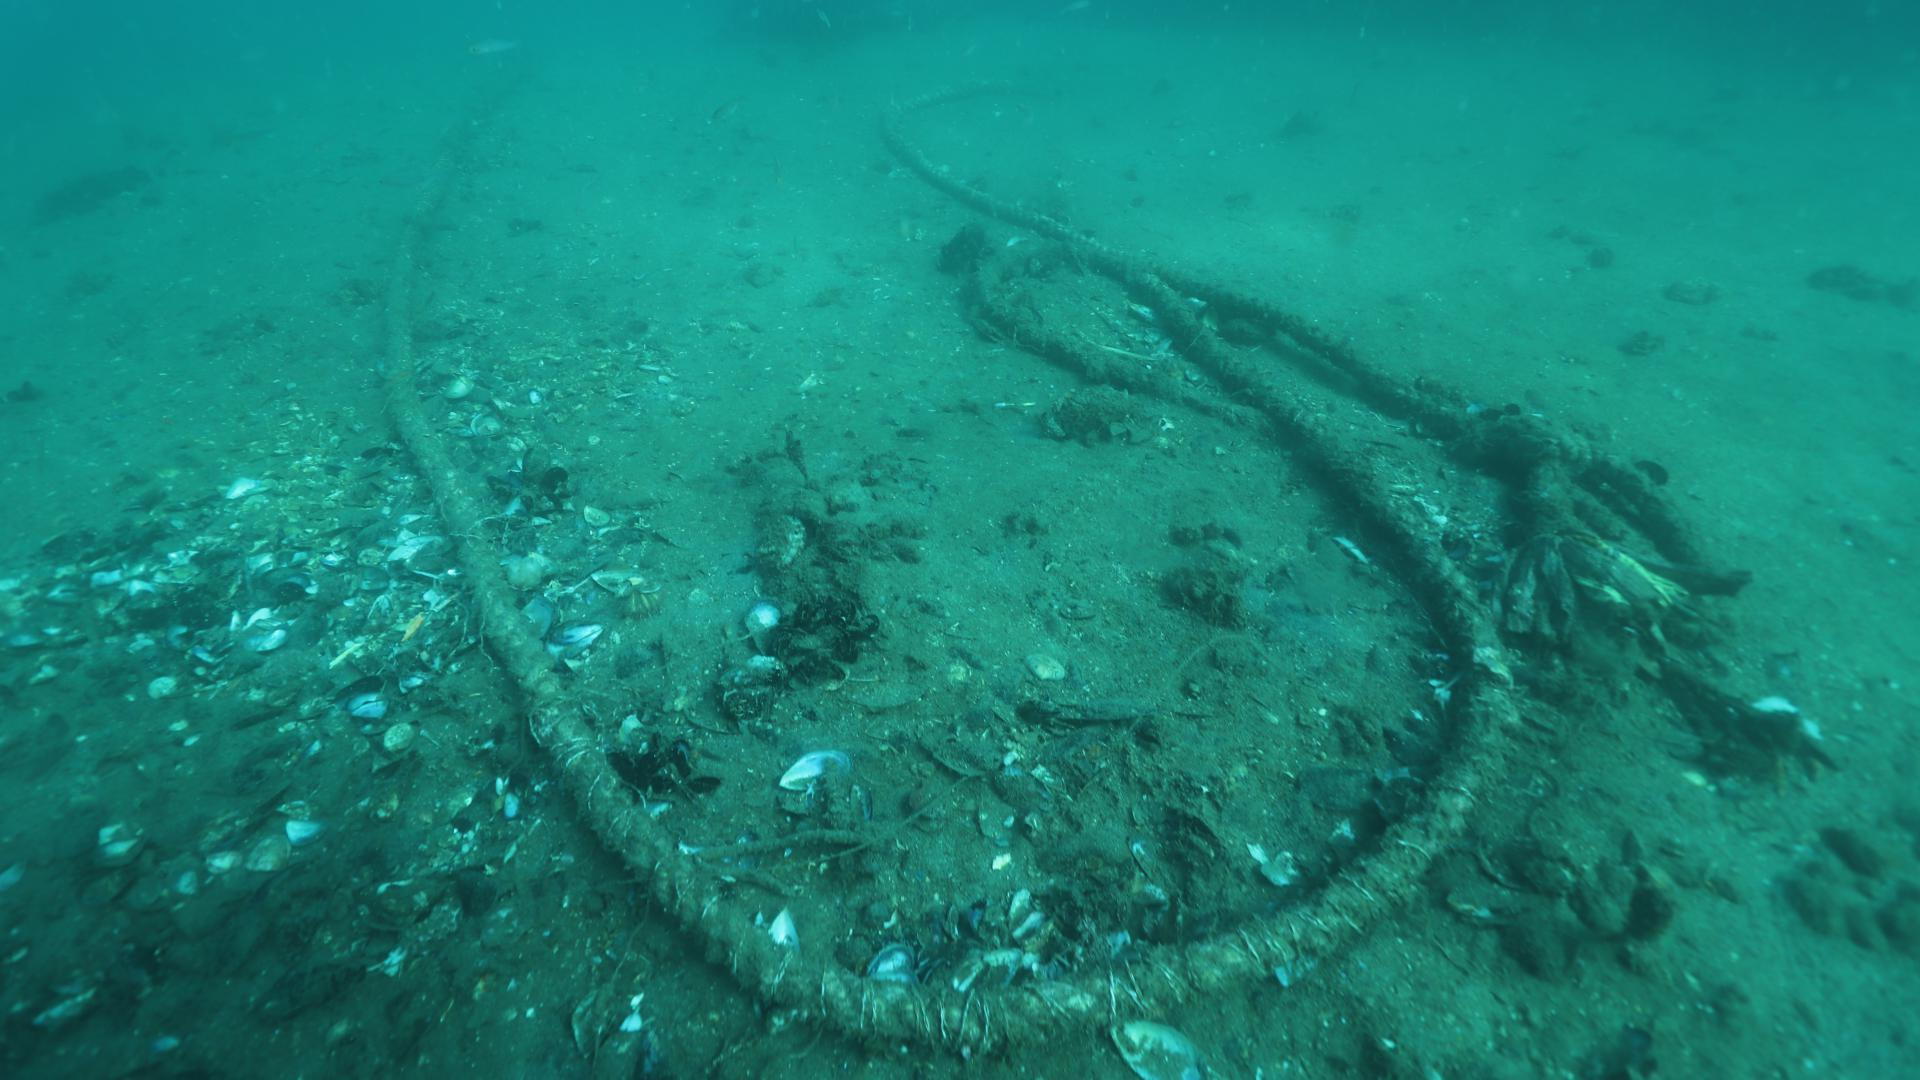bundle of ropes: (378, 227, 1696, 1058)
